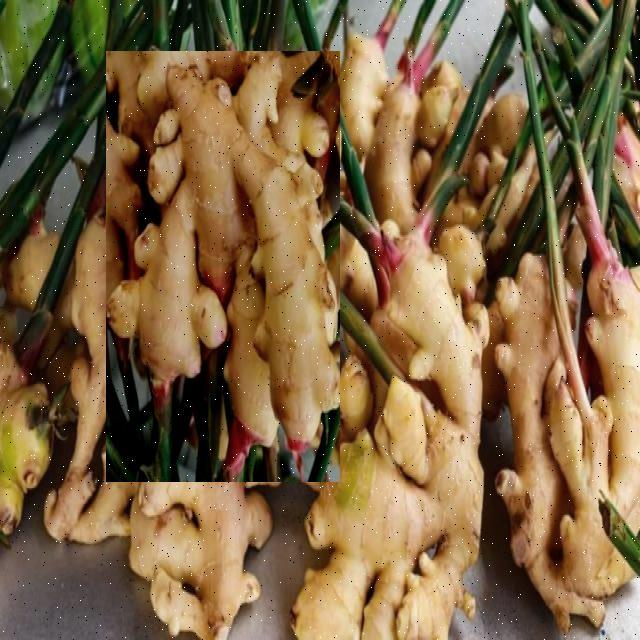ginger: (106, 51, 340, 482)
